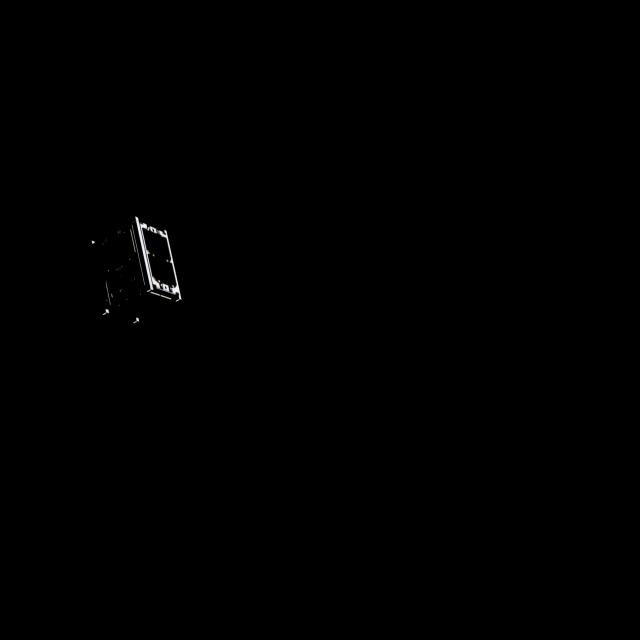medium_debris: (85, 214, 182, 327)
